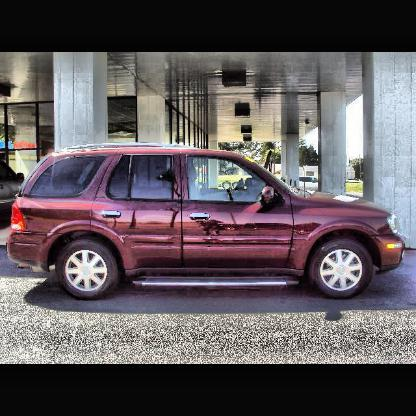Buick Rainier SUV 2007: (9, 145, 410, 304)
